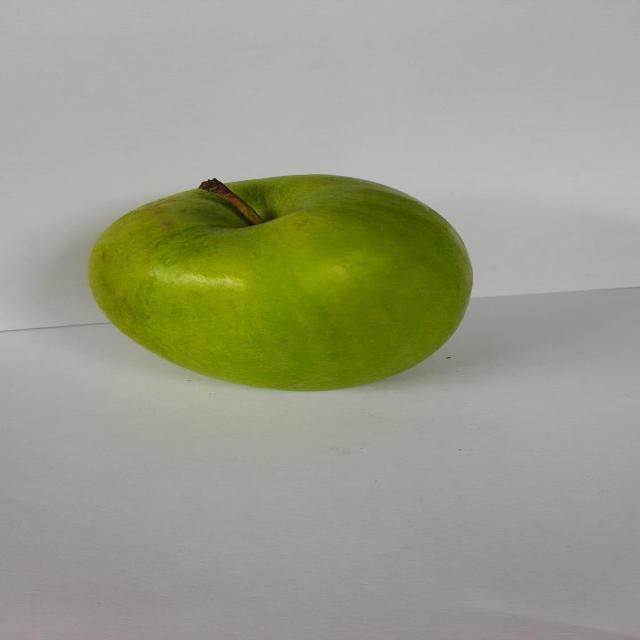Rotten Apple: (58, 162, 485, 406)
